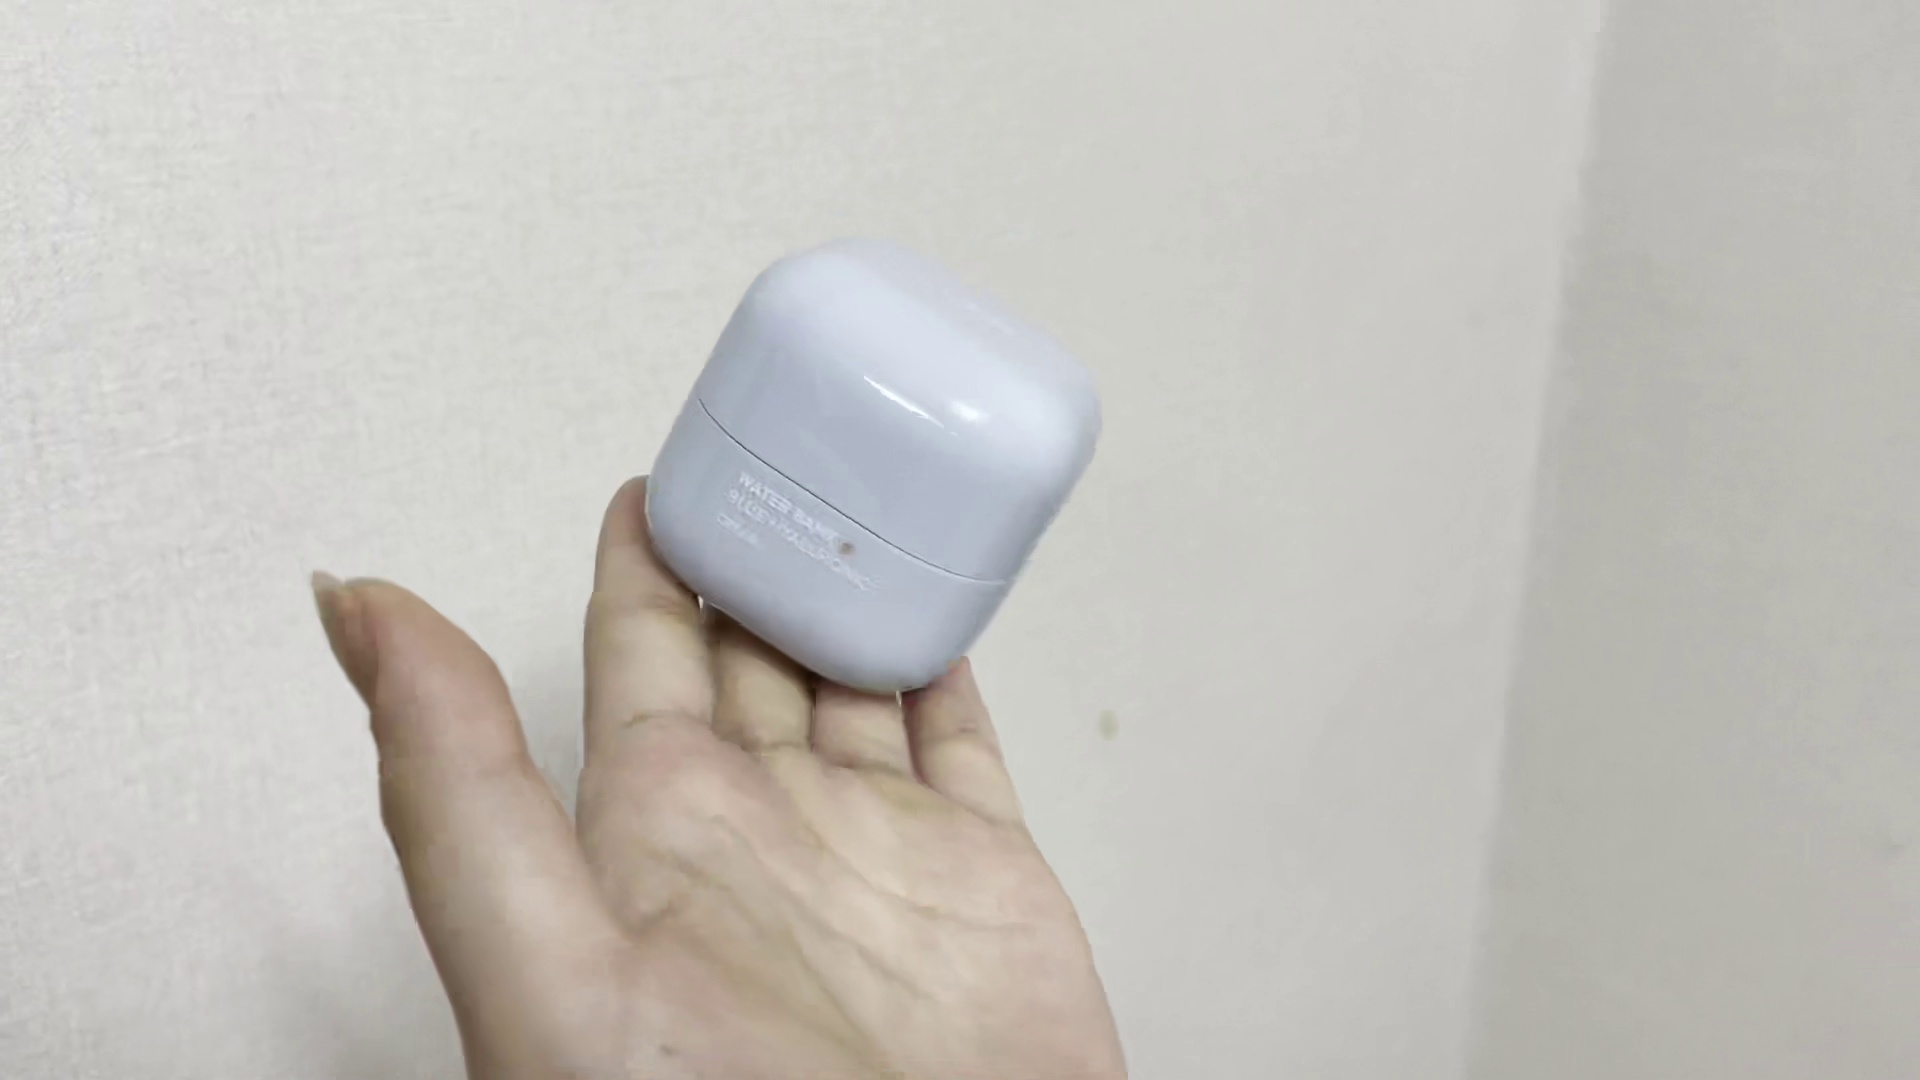cream: (642, 229, 1104, 704)
